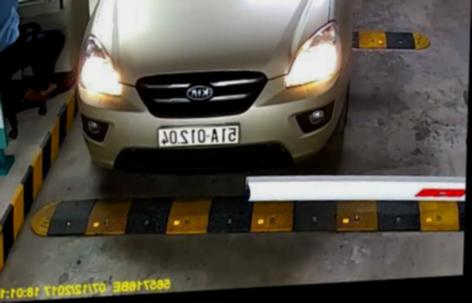License_Plate: (153, 119, 241, 152)
